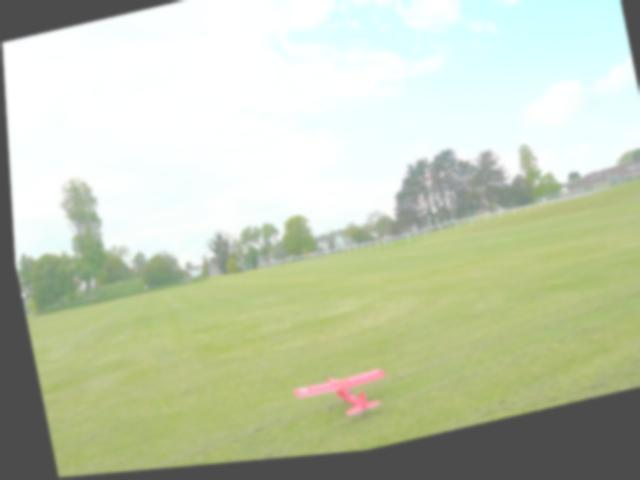plane: (286, 369, 390, 437)
